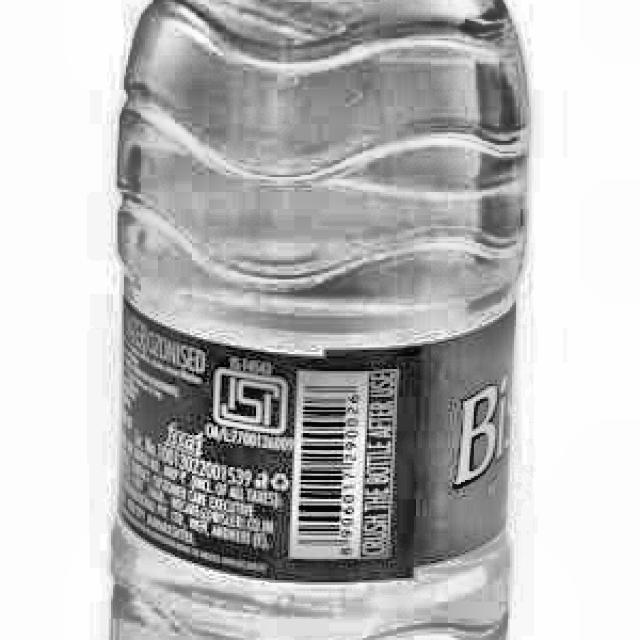bottle: (98, 0, 536, 640)
